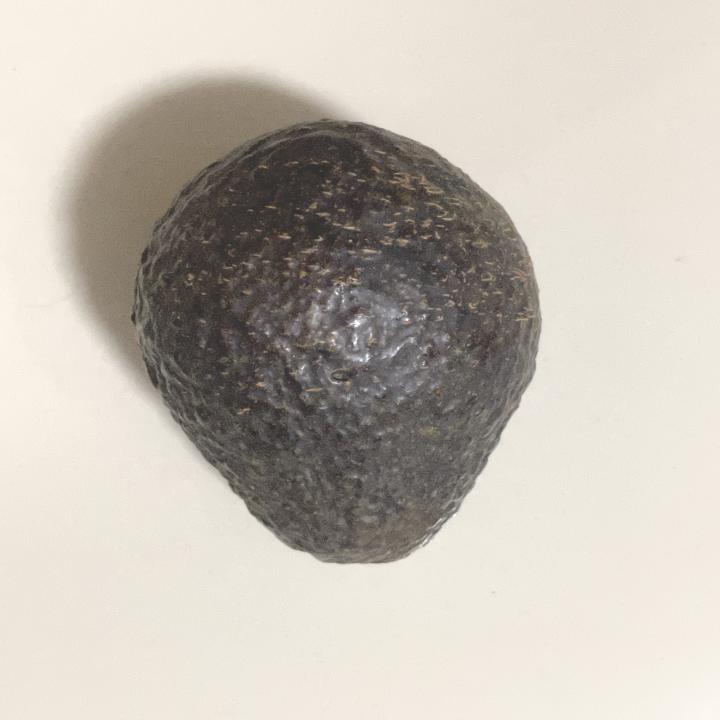Level2: (115, 115, 552, 576)
